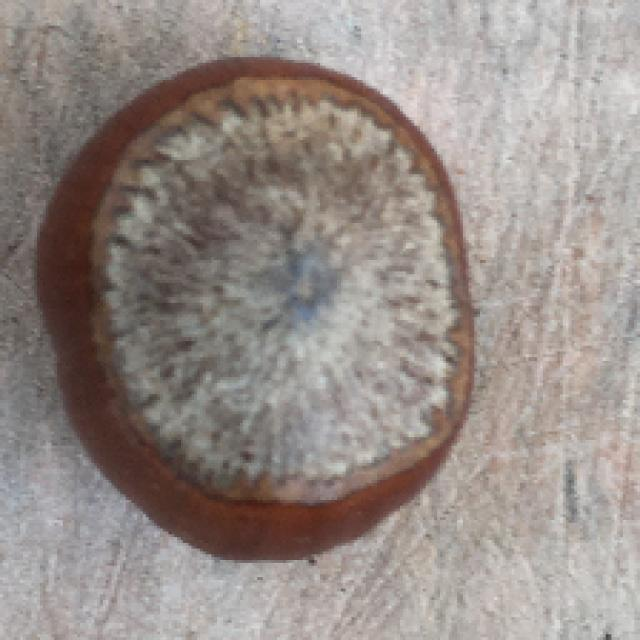qualityHazelnut: (31, 55, 484, 566)
